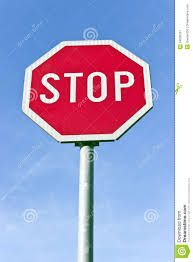stop_sign: (20, 40, 154, 143)
